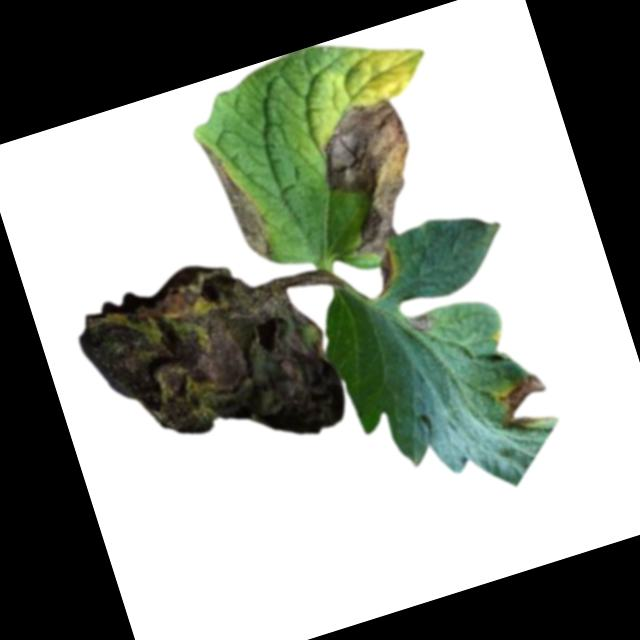Early_blight: (68, 233, 353, 493), (308, 90, 438, 259), (200, 131, 276, 267), (490, 370, 558, 437), (361, 249, 403, 300), (407, 310, 434, 335)
